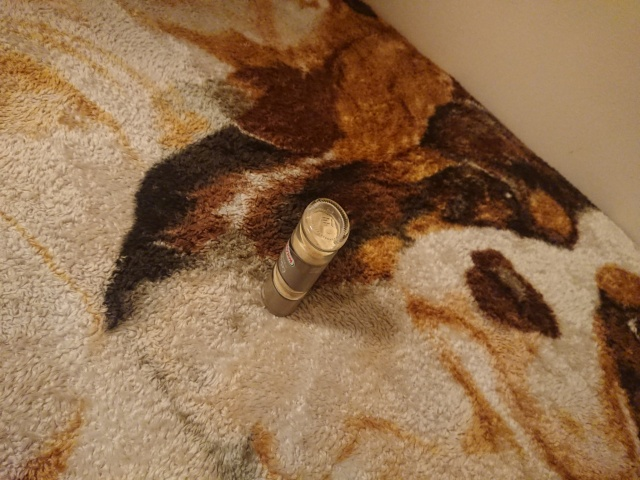Kotanyi Garlic Granules 70g: (259, 195, 352, 319)
